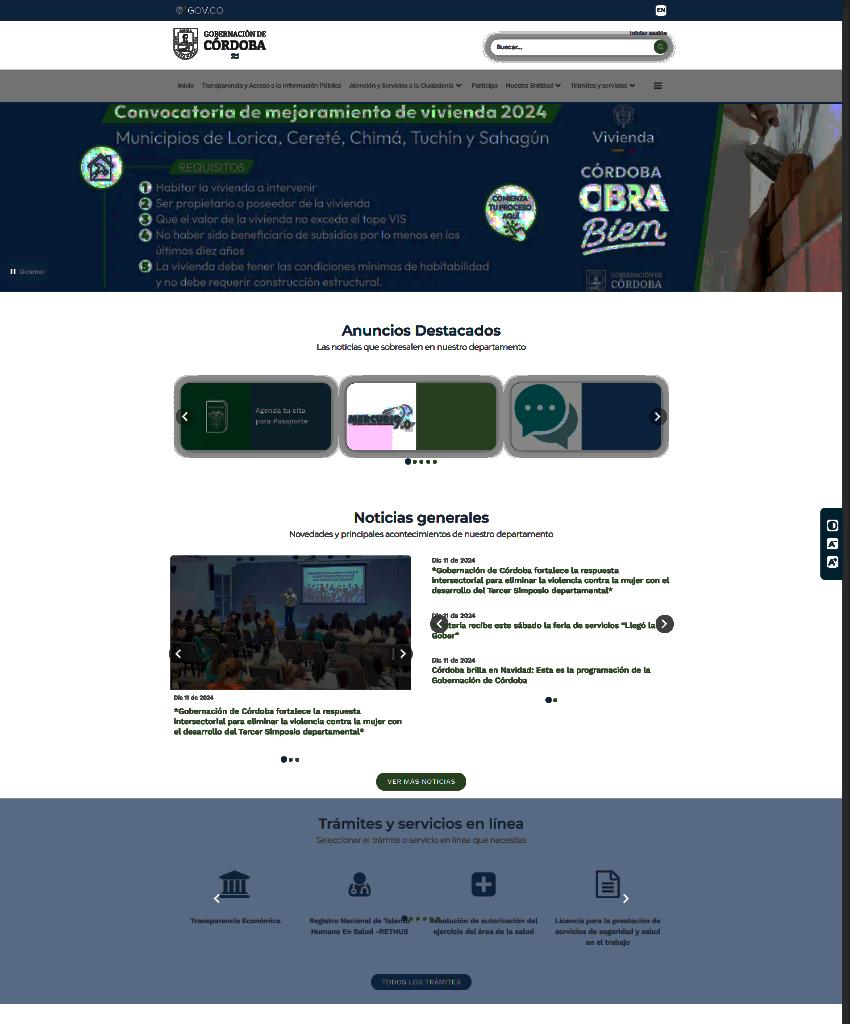banner principal: (1, 99, 843, 295)
barra accesibilidad: (820, 506, 844, 580)
barra govco: (172, 0, 670, 22)
btn atencion ciudadano: (349, 80, 463, 90)
btn buscador: (489, 37, 668, 57)
btn entidad: (504, 80, 562, 90)
btn idiomas: (656, 6, 666, 16)
btn inicio: (177, 80, 195, 90)
btn inicio sesion: (628, 29, 668, 37)
btn noticias: (375, 773, 467, 791)
btn participa: (471, 82, 499, 90)
btn tramites: (370, 974, 472, 990), (570, 80, 637, 90)
btn transpariencia: (200, 80, 342, 92)
logogovco: (175, 2, 225, 18)
menu principal: (174, 78, 670, 94)
